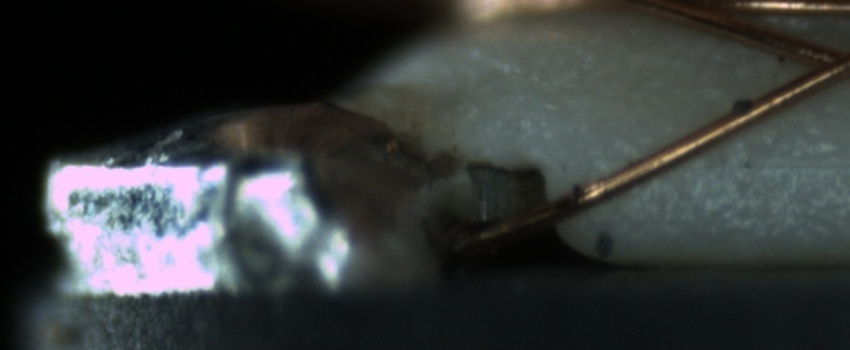CL: (778, 32, 847, 94)
DL: (690, 125, 849, 191)
